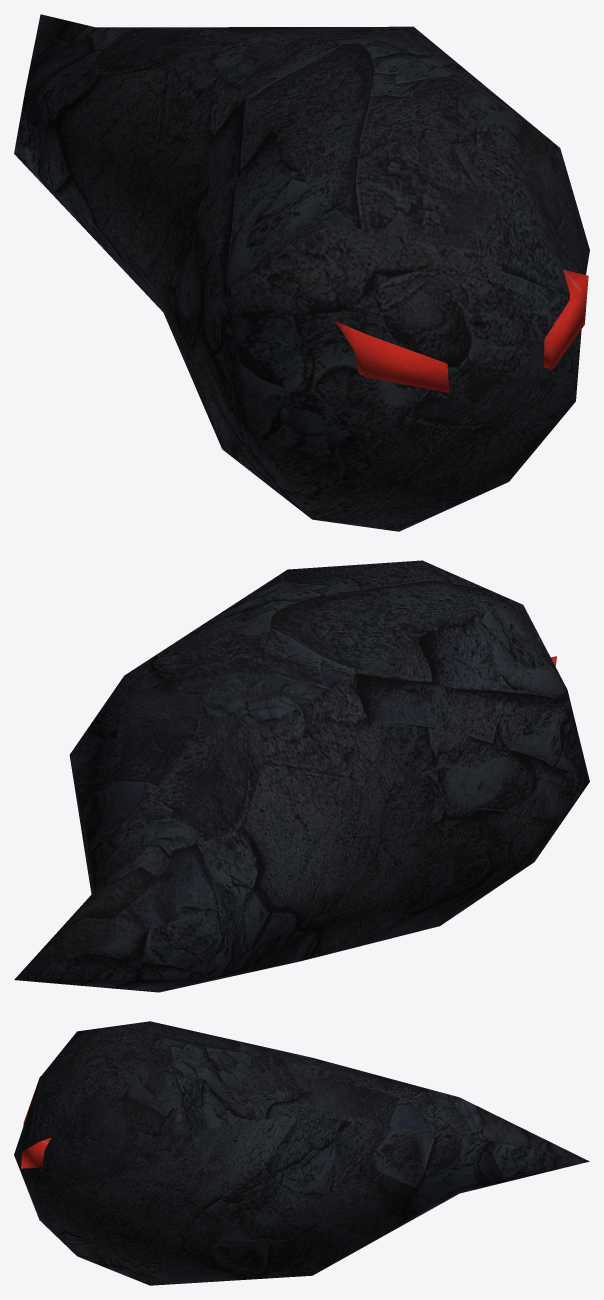
Rendered from eel3.obj.
3 views of the same model, one above another, from view 1: azimuth 30°, elevation 25°; view 2: azimuth 150°, elevation 25°; view 3: azimuth 270°, elevation 25° (orthographic). The views are drawn at different scales.
Visible parts, largest first — view 1: Icosphere; view 2: Icosphere; view 3: Icosphere.
Boxes of the visible parts, left/top/right/bottom form: Icosphere: left=14, top=14, right=589, bottom=531; Icosphere: left=14, top=560, right=589, bottom=992; Icosphere: left=14, top=1021, right=589, bottom=1285.
Bounding box in the file's own units: 2.1 × 1.9 × 4.33.
Materials: 2 (2 with a texture image).
